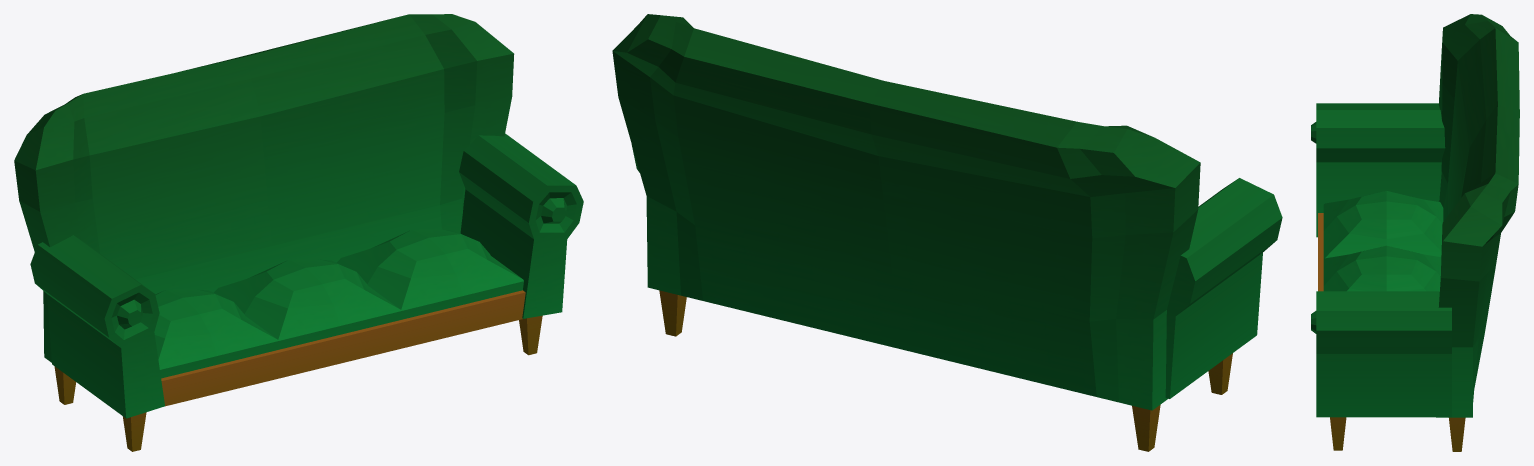
The model's file is Couch.fbx.
The picture shows the model from 3 angles, left to right: view 1: azimuth 30°, elevation 25°; view 2: azimuth 150°, elevation 25°; view 3: azimuth 270°, elevation 25°; orthographic projection. The views are drawn at different scales.
Parts seen in each view (by area): view 1: Armchair6; view 2: Armchair6; view 3: Armchair6.
Part boxes in pixels (bbox=[...]): Armchair6: bbox=[14, 14, 583, 451]; Armchair6: bbox=[612, 14, 1282, 451]; Armchair6: bbox=[1311, 14, 1519, 451].
Bounding box in the file's own units: 2.4 × 1.36 × 0.9902.
